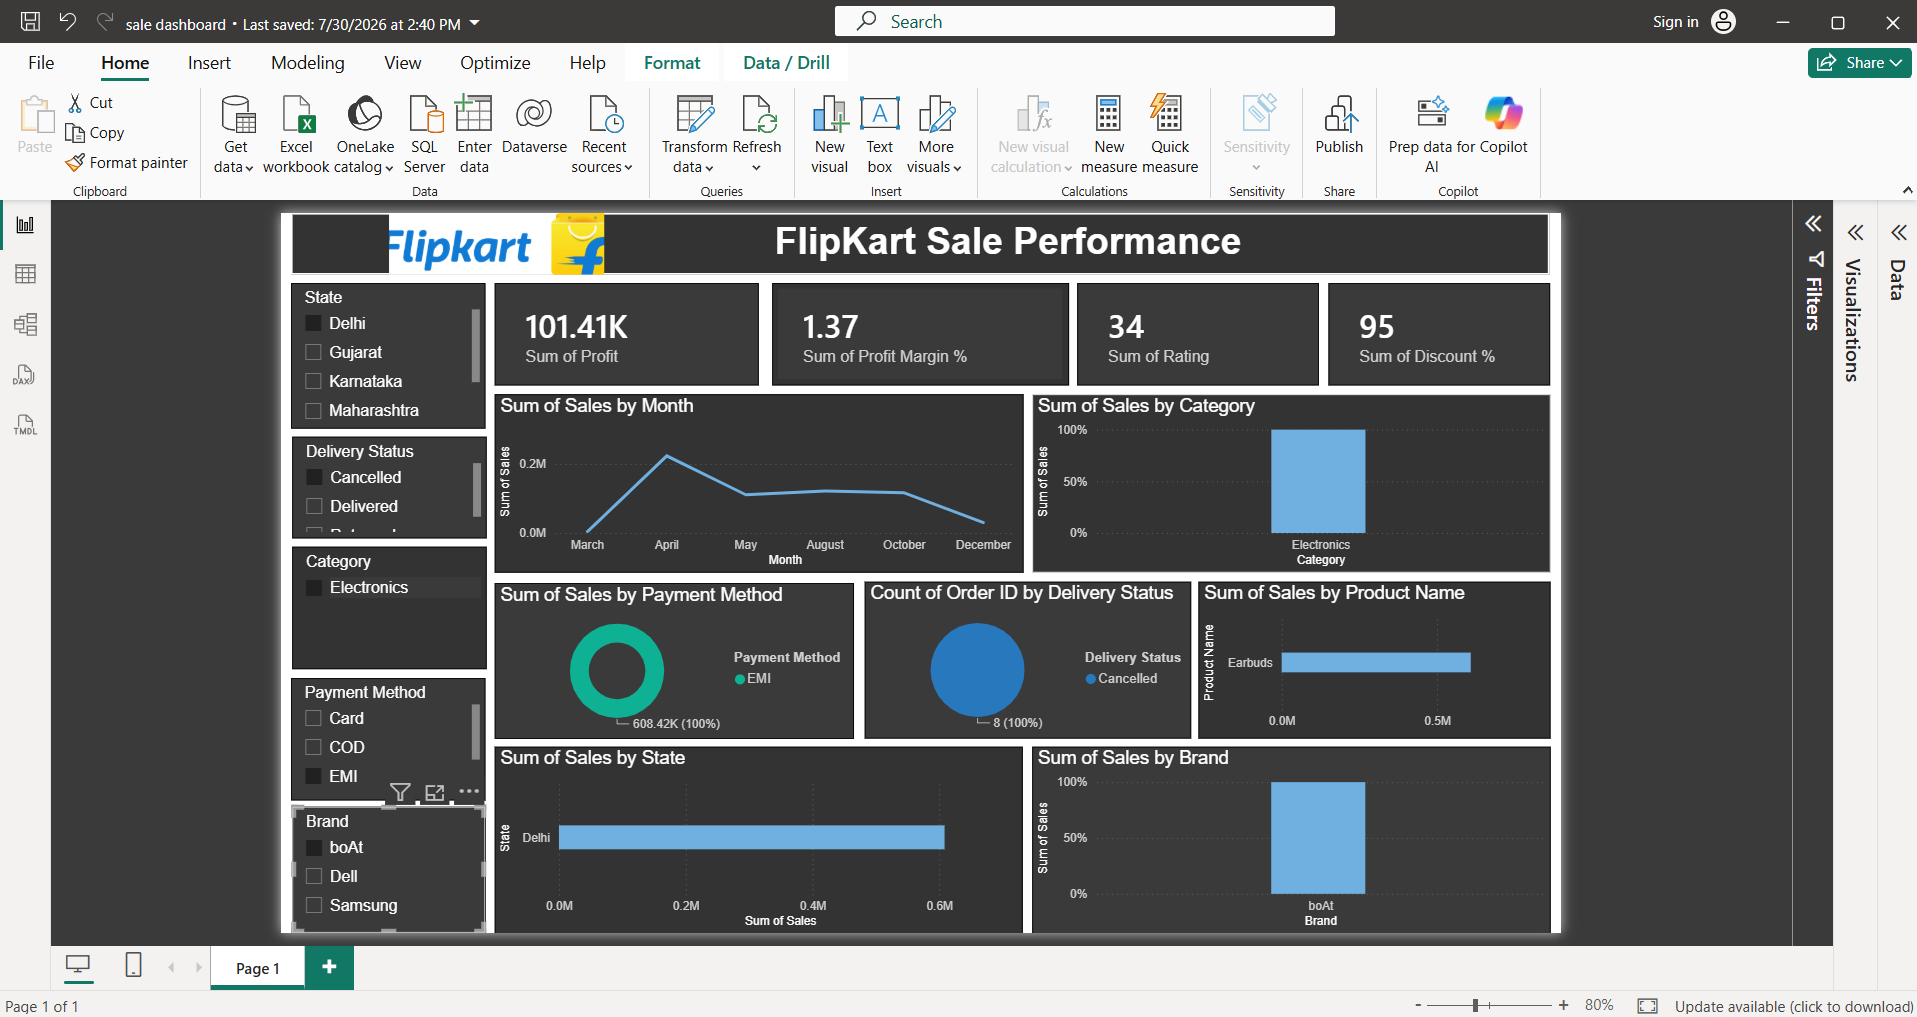

The page's visual inventory and layout, read from the dashboard file:
{"tool":"powerbi","page":{"name":"Page 1","canvas":[1280,720],"ordinal":0},"visuals":[{"type":"textbox","box":[9.8,0,1259.5,57.5],"z":0},{"type":"cardVisual","fields":{"Data":["Sum(Data.Rating)"]},"box":[796.3,70,241.3,102.5],"z":1000},{"type":"cardVisual","fields":{"Data":["Sum(Data.Discount %)"]},"box":[1047.2,70,222,102.5],"z":2000},{"type":"cardVisual","fields":{"Data":["Sum(Data.Profit Margin %)"]},"box":[491,70,296.8,102.5],"z":3000},{"type":"lineChart","fields":{"Category":["Data.Month.Variation.Date Hierarchy.Month"],"Y":["Sum(Data.Sales)"]},"box":[213.8,181.2,528.8,178.8],"z":4000},{"type":"hundredPercentStackedColumnChart","fields":{"Y":["Sum(Data.Sales)"],"Category":["Data.Category"]},"box":[751.2,181.2,518.8,178.8],"z":5000},{"type":"pieChart","fields":{"Y":["CountNonNull(Data.Order ID)"],"Category":["Data.Delivery Status"]},"box":[583.3,369.3,326.5,156.5],"z":6000},{"type":"barChart","fields":{"Category":["Data.Product Name"],"Y":["Sum(Data.Sales)"]},"box":[917.1,369.3,352.2,156.5],"z":7000},{"type":"barChart","fields":{"Y":["Sum(Data.Sales)"],"Category":["Data.State"]},"box":[214,533.2,528.3,187.1],"z":8000},{"type":"hundredPercentStackedColumnChart","fields":{"Category":["Data.Brand"],"Y":["Sum(Data.Sales)"]},"box":[750.8,533.2,518.5,187.1],"z":9000},{"type":"slicer","fields":{"Values":["Data.State"]},"box":[9.8,69.7,194.4,145.5],"z":10000},{"type":"slicer","fields":{"Values":["Data.Delivery Status"]},"box":[11,223.8,194.4,101.5],"z":11000},{"type":"slicer","fields":{"Values":["Data.Category"]},"box":[11,333.8,194.4,122.3],"z":12000},{"type":"slicer","fields":{"Values":["Data.Payment Method"]},"box":[9.8,464.7,194.4,122.3],"z":13000},{"type":"slicer","fields":{"Values":["Data.Brand"]},"box":[11,594.3,193.2,126],"z":14000},{"type":"cardVisual","fields":{"Data":["Sum(Data.Profit)"]},"box":[213.5,70,264.2,102.5],"z":15000},{"type":"donutChart","fields":{"Category":["Data.Payment Method"],"Y":["Sum(Data.Sales)"]},"box":[213.9,369.6,359.5,155.7],"z":17000},{"type":"image","box":[10.9,0,466.9,49.5],"z":18000}]}

Visuals, with their boxes on the page's 1280x720 design canvas (x1, y1, x2, y2). These are canvas units, not pixel positions in the 1917x1017 screenshot, which may show the page scaled, cropped or inside an application window:
textbox: [10,0,1269,58]
cardVisual - Sum(Data.Rating): [796,70,1038,172]
cardVisual - Sum(Data.Discount %): [1047,70,1269,172]
cardVisual - Sum(Data.Profit Margin %): [491,70,788,172]
lineChart - Data.Month.Variation.Date Hierarchy.Month x Sum(Data.Sales): [214,181,743,360]
hundredPercentStackedColumnChart - Sum(Data.Sales) x Data.Category: [751,181,1270,360]
pieChart - CountNonNull(Data.Order ID) x Data.Delivery Status: [583,369,910,526]
barChart - Data.Product Name x Sum(Data.Sales): [917,369,1269,526]
barChart - Sum(Data.Sales) x Data.State: [214,533,742,720]
hundredPercentStackedColumnChart - Data.Brand x Sum(Data.Sales): [751,533,1269,720]
slicer - Data.State: [10,70,204,215]
slicer - Data.Delivery Status: [11,224,205,325]
slicer - Data.Category: [11,334,205,456]
slicer - Data.Payment Method: [10,465,204,587]
slicer - Data.Brand: [11,594,204,720]
cardVisual - Sum(Data.Profit): [214,70,478,172]
donutChart - Data.Payment Method x Sum(Data.Sales): [214,370,573,525]
image: [11,0,478,50]
